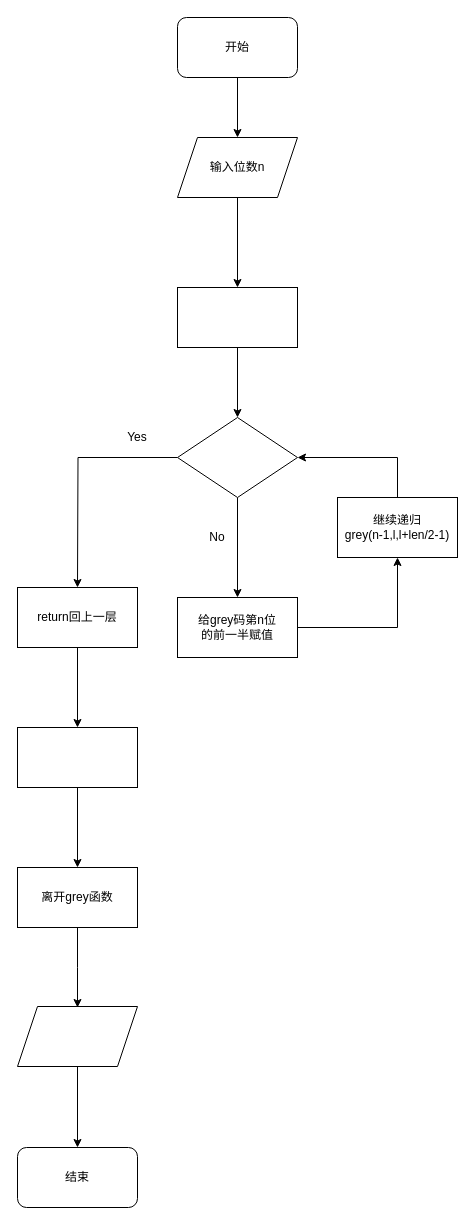
This 475x1225 diagram has some shape labels left out. Here are the shapes that lost their labels. From the top down, the box of each, then its label:
(176, 286, 298, 348): k=pow(2,n) 进入函数grey(n-1,1,k)
(176, 416, 298, 498): n=0？
(16, 726, 138, 788): 给grey码第n位 至第1位 的后一半赋值
(16, 1006, 138, 1066): 输出n位grey码
